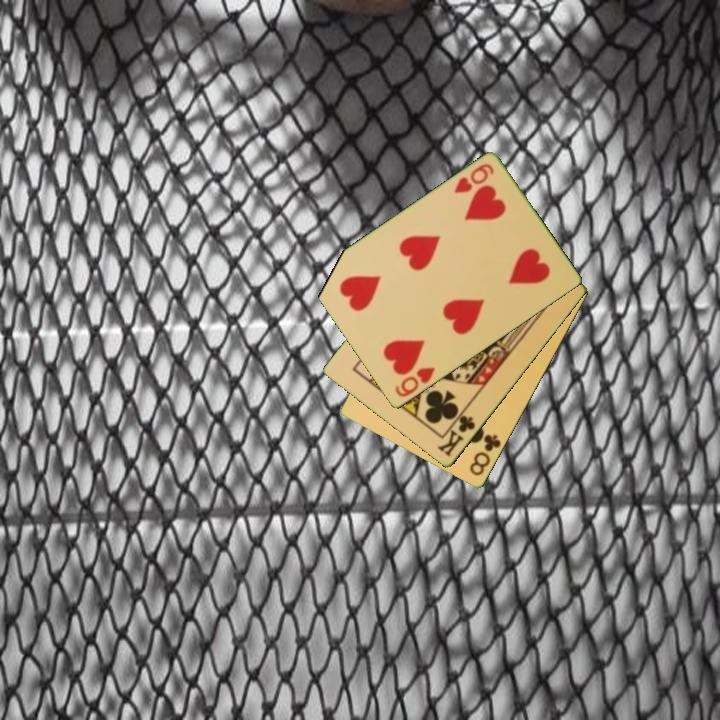6h: (451, 160, 497, 197), (391, 364, 438, 400)
8c: (466, 431, 504, 479)
Kc: (434, 406, 478, 460)
